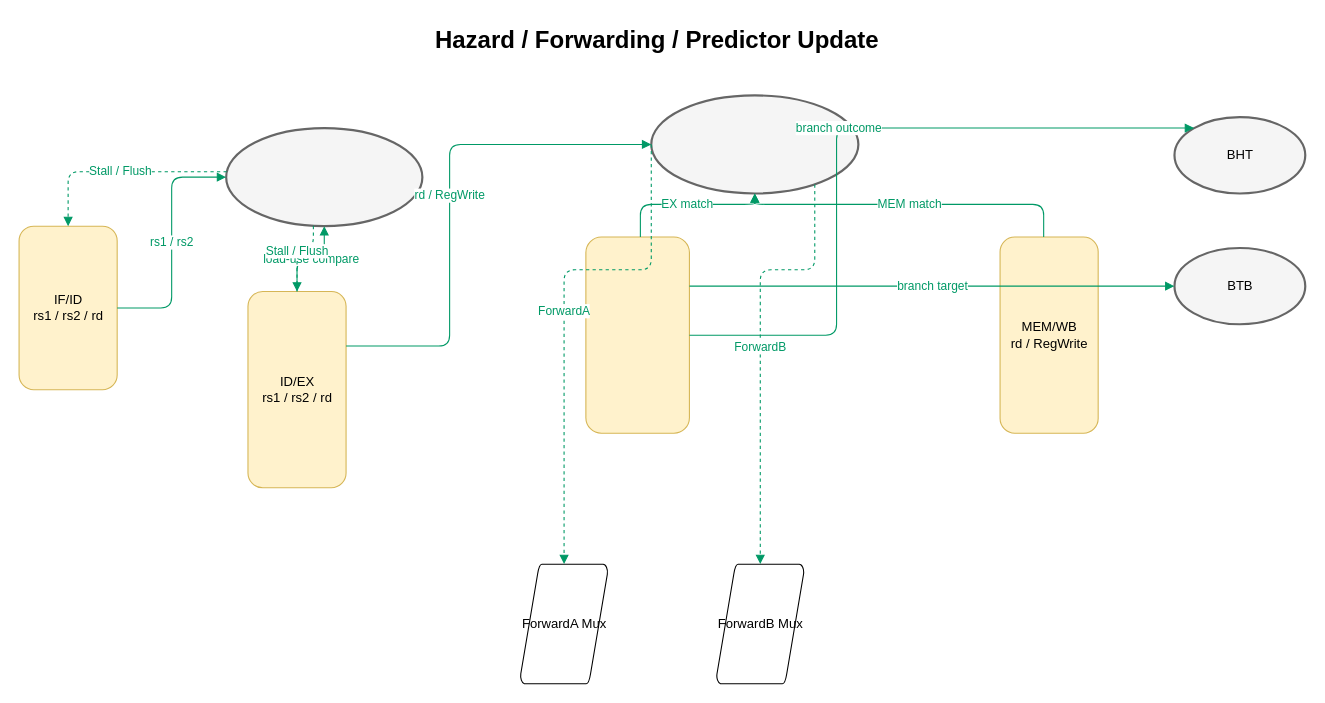
This 1325x703 diagram has some shape labels left out. Each missing label, with the centre of its shape:
"EX/MEM rd / RegWrite / MemRead" belongs at (x=637, y=334).
"forward_unit ForwardA / ForwardB" belongs at (x=754, y=144).
"hazard_unit load-use detect stall / flush" belongs at (x=324, y=176).
